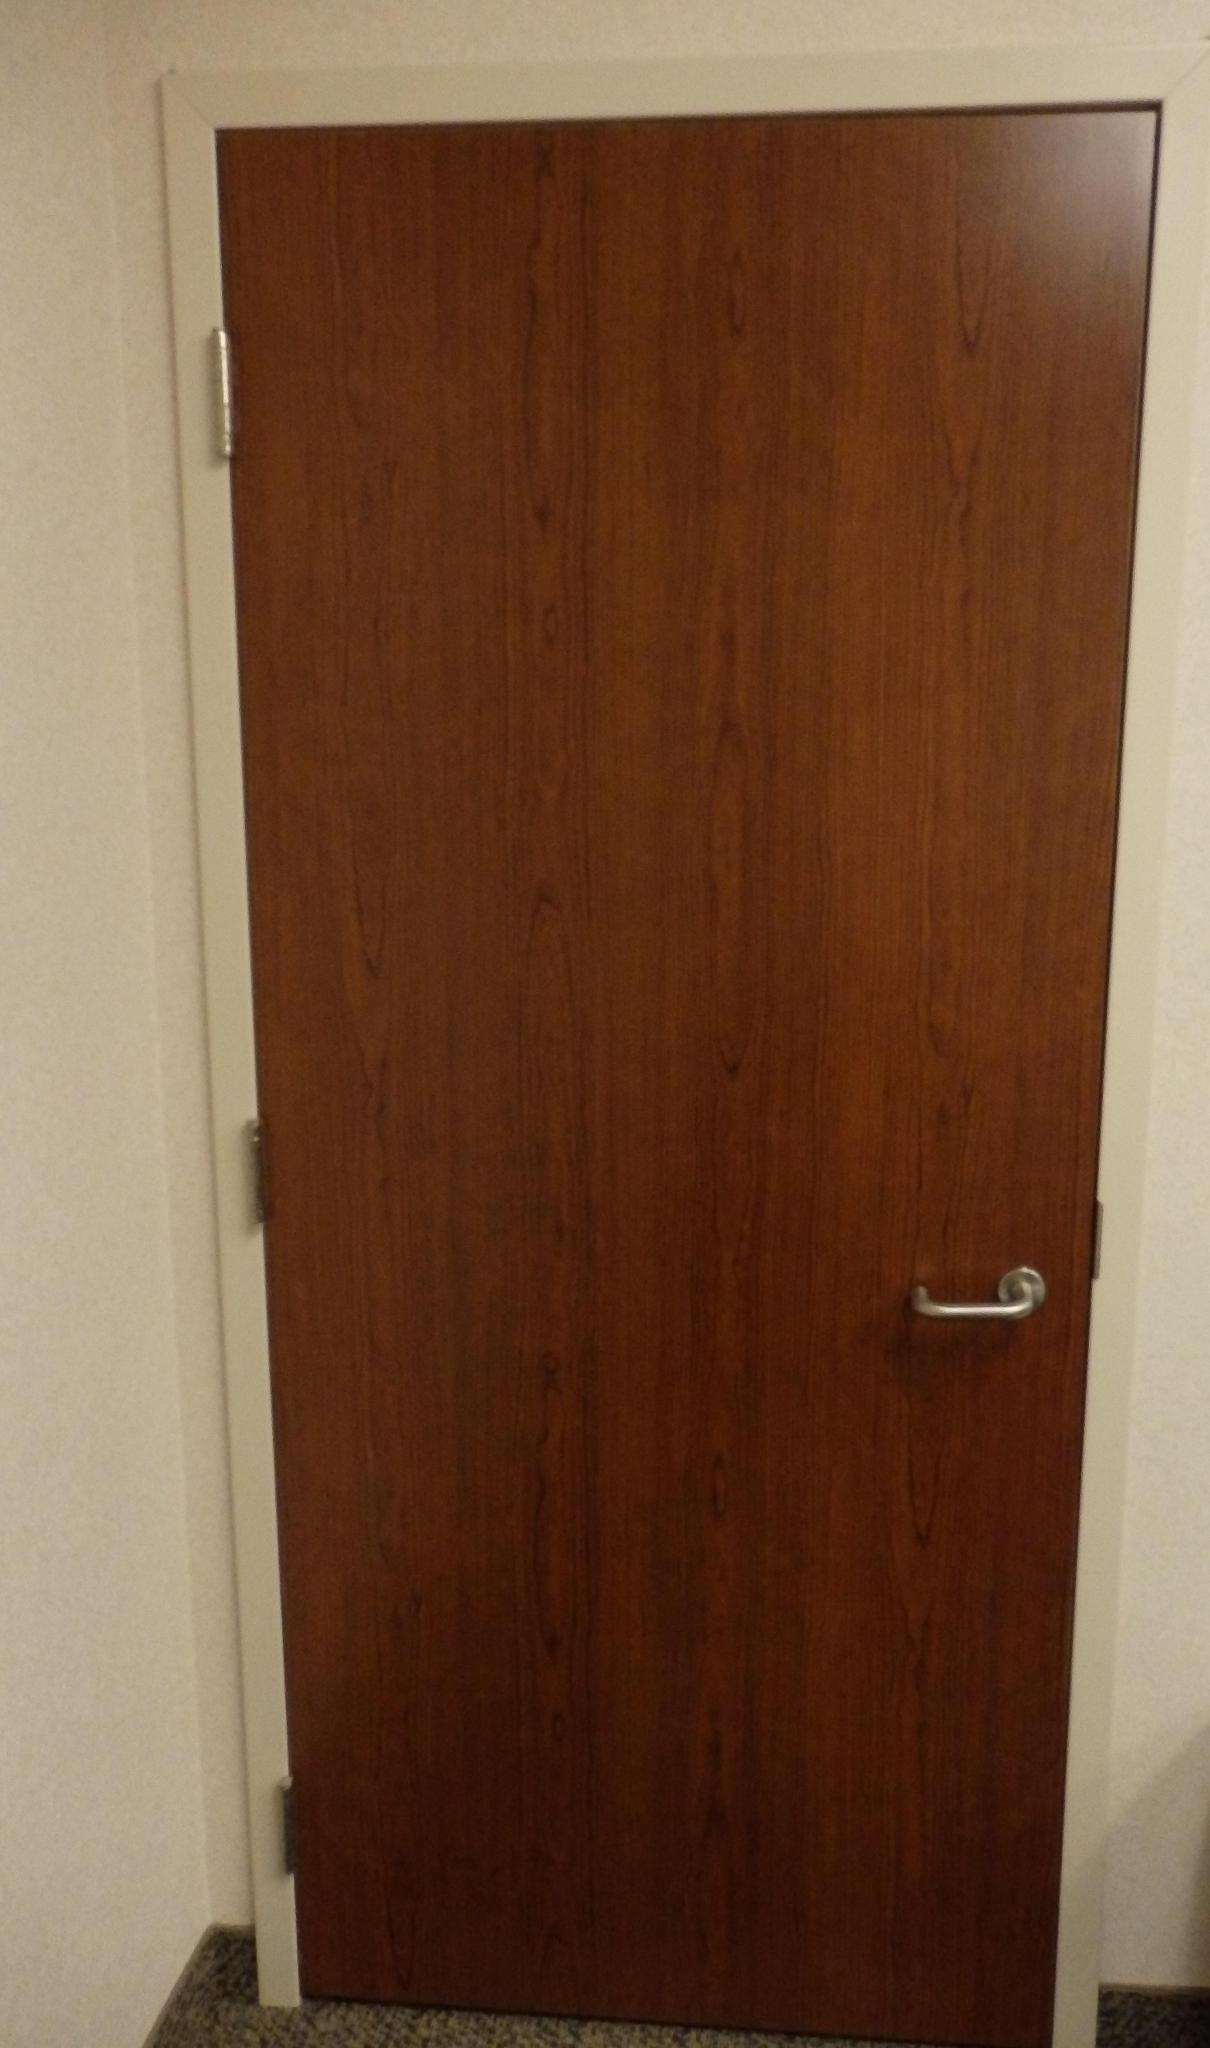door: (259, 184, 1053, 2011)
handle: (893, 1237, 1049, 1360)
